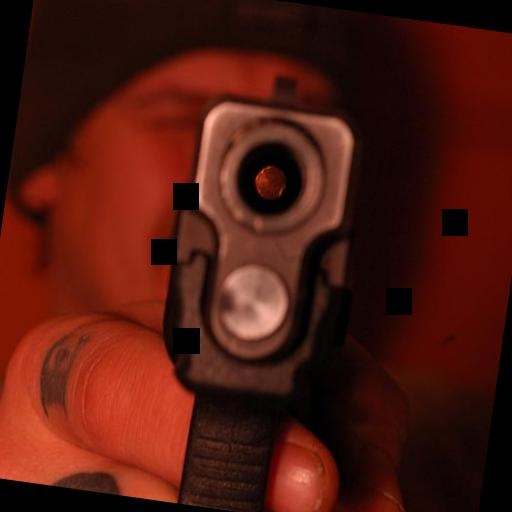Handgun: (139, 53, 380, 512)
